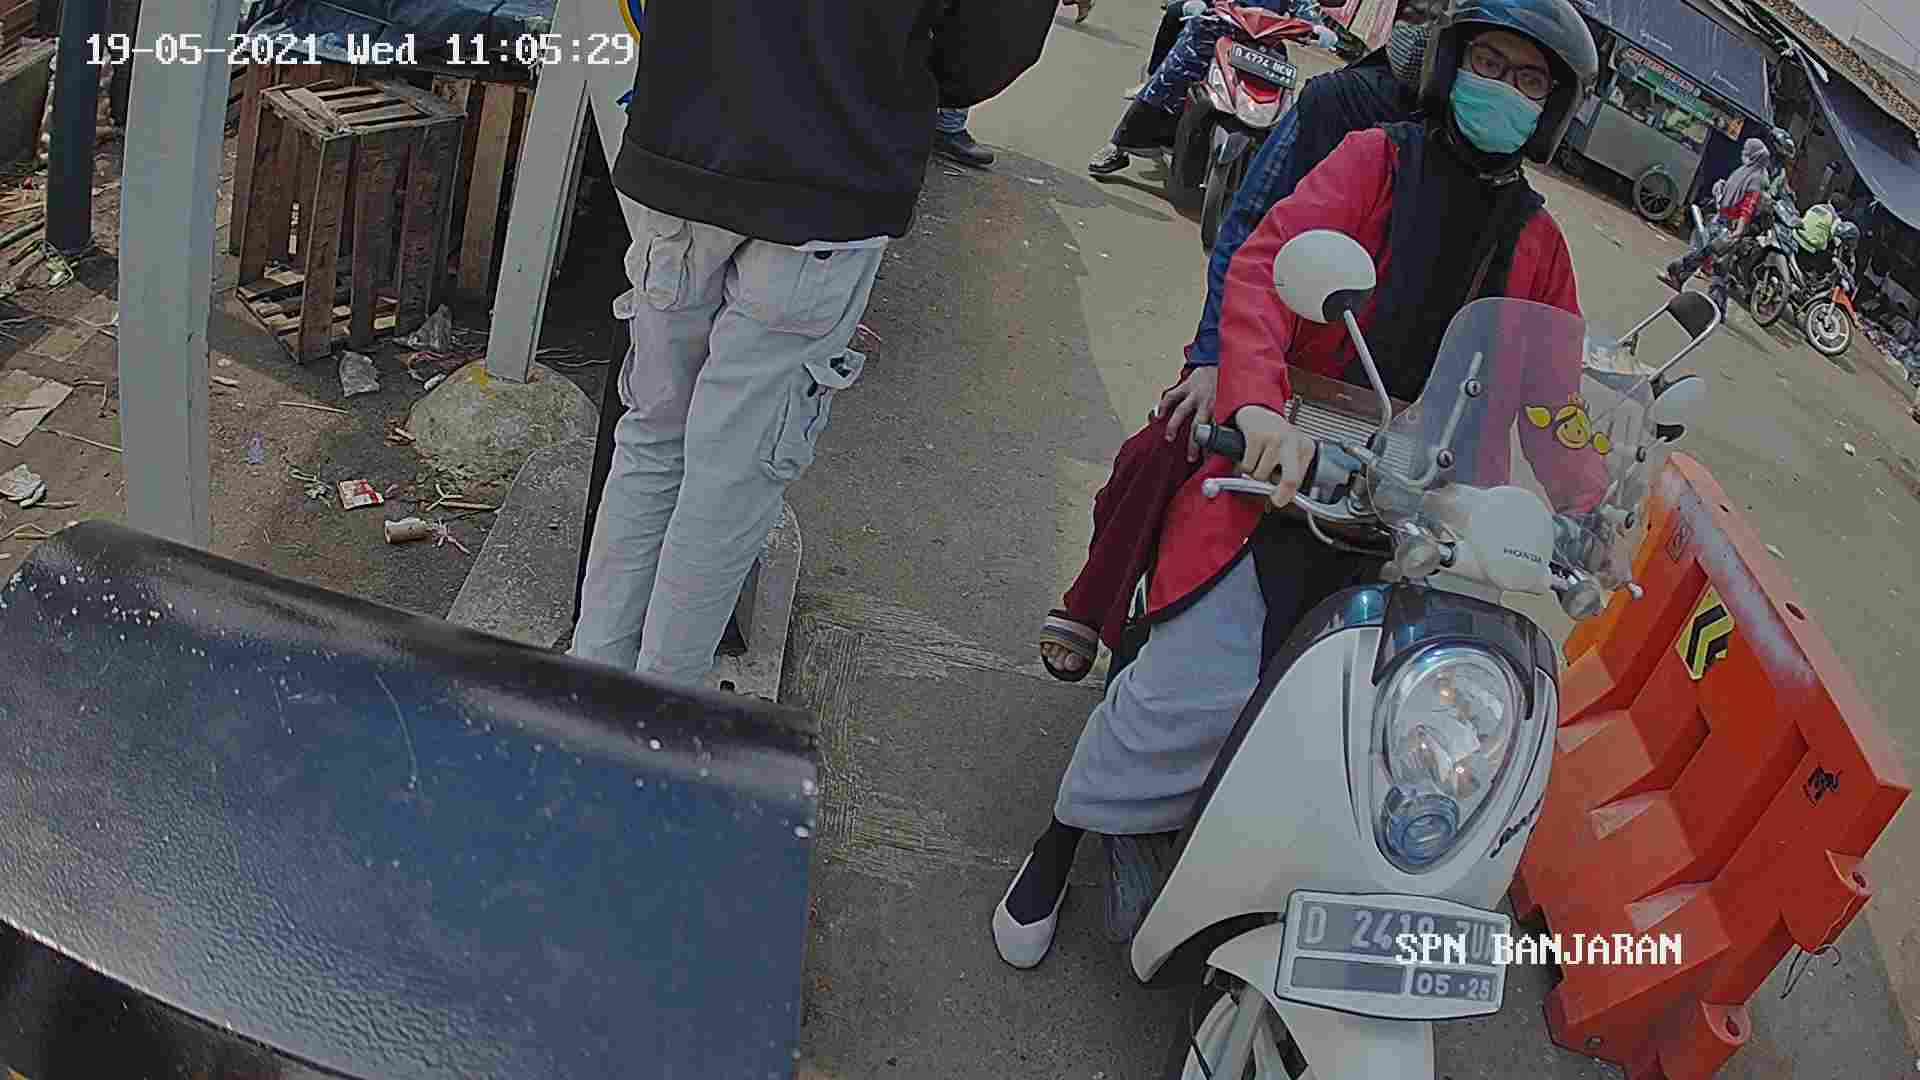motor: (1138, 380, 1596, 1080)
